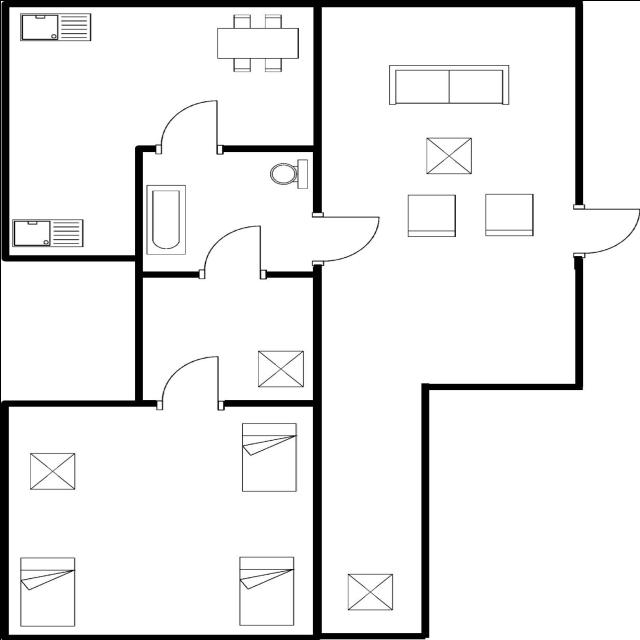bed: (236, 416, 302, 498), (15, 550, 80, 630), (231, 554, 299, 628)
coffee_table: (419, 132, 477, 178), (251, 346, 307, 392), (342, 570, 400, 614), (26, 447, 80, 494)
dining_table: (209, 9, 303, 75)
large_sink: (265, 154, 311, 192)
large_sofa: (384, 59, 516, 107)
sink: (15, 9, 100, 46), (8, 214, 90, 250)
small_sofa: (400, 190, 460, 240), (480, 190, 538, 240)
tub: (142, 181, 190, 259)
